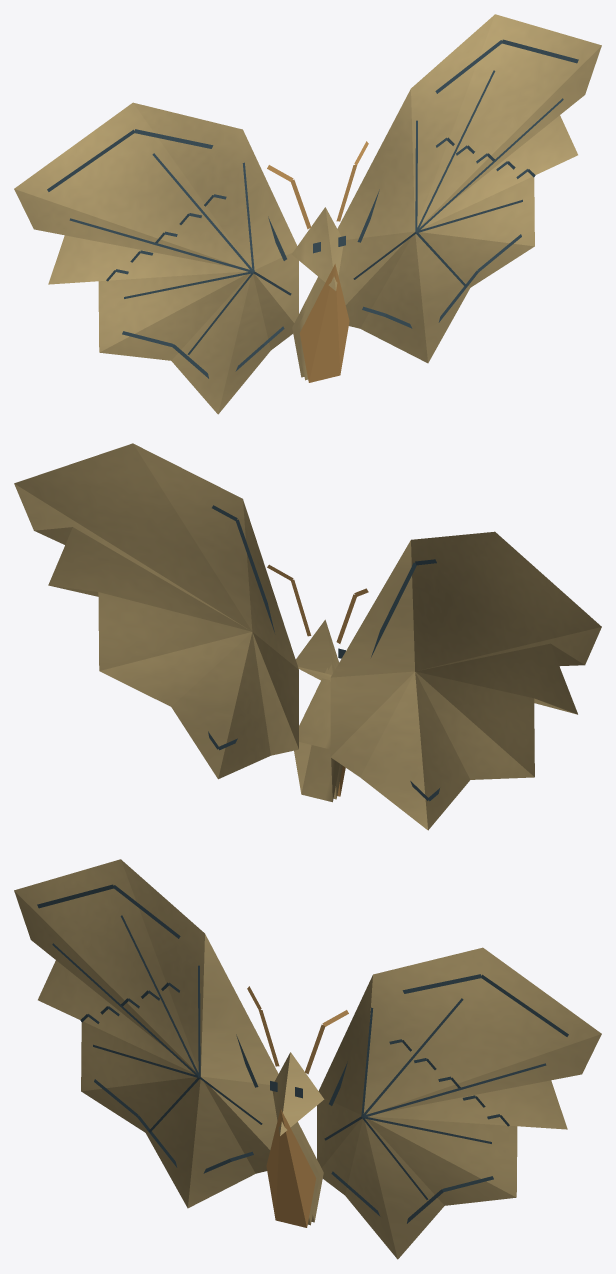
The model's file is paper-moth.glb.
The picture shows the model from 3 angles, top to bottom: view 1: azimuth 30°, elevation 25°; view 2: azimuth 150°, elevation 25°; view 3: azimuth 330°, elevation 25°; orthographic projection.
Visible parts, largest first — view 1: WingLeft Moth warm paper, WingRight Moth warm paper, MothBody Moth brass binding, WingLeft Moth indigo ink, WingRight Moth indigo ink, MothBody Moth warm paper; view 2: WingRight Moth warm paper, WingLeft Moth warm paper, MothBody Moth warm paper, MothBody Moth brass binding, WingRight Moth indigo ink, WingLeft Moth indigo ink; view 3: WingRight Moth warm paper, WingLeft Moth warm paper, MothBody Moth brass binding, WingRight Moth indigo ink, WingLeft Moth indigo ink, MothBody Moth warm paper.
Part boxes in pixels (bbox=[...]): WingLeft Moth warm paper: bbox=[14, 102, 298, 414]; WingRight Moth warm paper: bbox=[337, 14, 601, 363]; MothBody Moth brass binding: bbox=[267, 141, 368, 382]; WingLeft Moth indigo ink: bbox=[47, 129, 291, 378]; WingRight Moth indigo ink: bbox=[353, 39, 578, 328]; MothBody Moth warm paper: bbox=[291, 207, 343, 380]; WingRight Moth warm paper: bbox=[14, 443, 298, 779]; WingLeft Moth warm paper: bbox=[330, 531, 601, 830]; MothBody Moth warm paper: bbox=[294, 619, 342, 802]; MothBody Moth brass binding: bbox=[267, 564, 368, 796]; WingRight Moth indigo ink: bbox=[208, 505, 274, 750]; WingLeft Moth indigo ink: bbox=[371, 559, 439, 801]; WingRight Moth warm paper: bbox=[317, 947, 601, 1259]; WingLeft Moth warm paper: bbox=[14, 859, 278, 1208]; MothBody Moth brass binding: bbox=[247, 986, 348, 1227]; WingRight Moth indigo ink: bbox=[324, 974, 568, 1223]; WingLeft Moth indigo ink: bbox=[37, 884, 262, 1173]; MothBody Moth warm paper: bbox=[272, 1052, 324, 1225].
Size of the model in its own units: 2.24 by 1.18 by 0.185.
3 materials, 1 textured.
